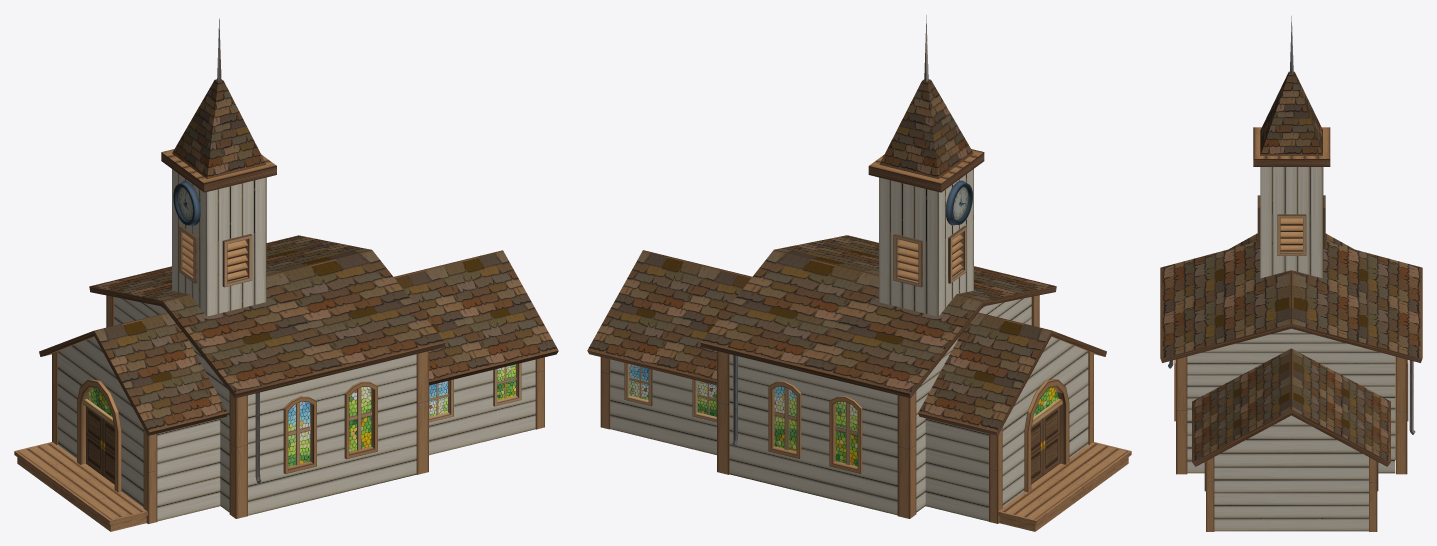
The model's file is House_09.FBX.
3 renders of one model, left to right at view 1: azimuth 30°, elevation 25°; view 2: azimuth 150°, elevation 25°; view 3: azimuth 270°, elevation 25°, orthographic. The views are drawn at different scales.
Parts seen in each view (by area): view 1: Roof, Wall, Frontage, Glass, Door_A, Clock, Door_B; view 2: Roof, Wall, Frontage, Glass, Door_B, Clock, Door_A; view 3: Roof, Wall.
Boxes of the visible parts, box(x1,y1,x2,y2) form: Roof: box(39, 79, 558, 435); Wall: box(52, 18, 544, 523); Frontage: box(14, 442, 147, 531); Glass: box(87, 364, 515, 466); Door_A: box(86, 406, 102, 475); Clock: box(173, 181, 200, 225); Door_B: box(103, 419, 114, 484); Roof: box(587, 79, 1106, 435); Wall: box(600, 15, 1093, 523); Frontage: box(998, 442, 1131, 531); Glass: box(629, 364, 1058, 466); Door_B: box(1043, 406, 1060, 475); Clock: box(945, 180, 972, 225); Door_A: box(1031, 419, 1042, 484); Roof: box(1160, 71, 1422, 466); Wall: box(1168, 16, 1415, 531).
Size of the model in its own units: 15.22 by 14.71 by 8.79.
